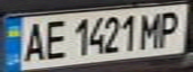1: (118, 11, 142, 52), (69, 16, 90, 56)
2: (103, 12, 124, 54)
4: (87, 15, 109, 56)
A: (18, 19, 48, 63)
E: (39, 17, 69, 61)
M: (136, 10, 166, 49)
P: (154, 7, 187, 48)
